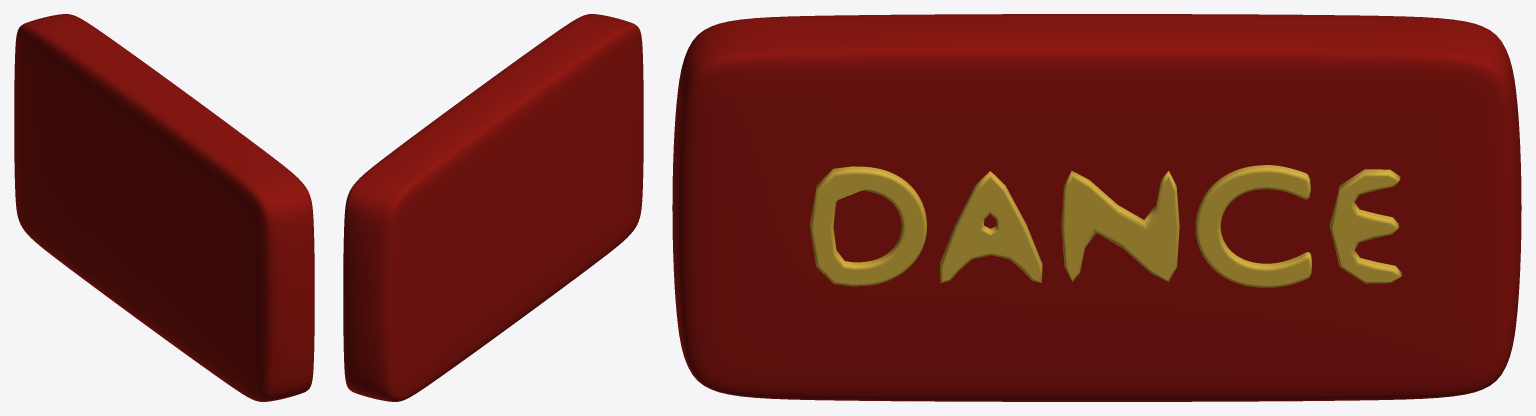
The model's file is button_dance.glb.
The picture shows the model from 3 angles, left to right: view 1: azimuth 30°, elevation 25°; view 2: azimuth 150°, elevation 25°; view 3: azimuth 270°, elevation 25°; orthographic projection. The views are drawn at different scales.
Parts seen in each view (by area): view 1: Cube.001; view 2: Cube.001; view 3: Cube.001, Text.
Part boxes in pixels (x1,y1,x2,y2): Cube.001: (14, 14, 314, 401); Cube.001: (343, 14, 643, 401); Cube.001: (672, 14, 1521, 401); Text: (810, 165, 1401, 287).
Bounding box in the file's own units: 0.2065 × 0.6993 × 1.49.
